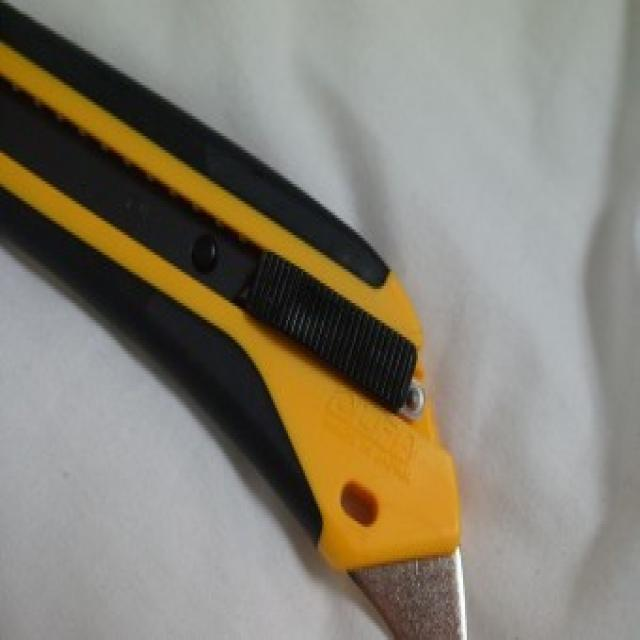cutter: (4, 0, 477, 640)
